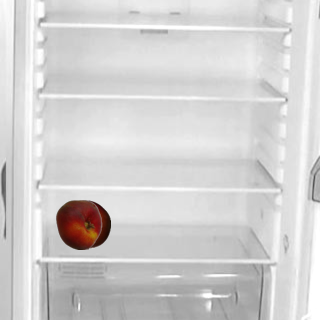Apple Braeburn: (60, 199, 110, 249)
Nectarine Flat: (53, 199, 103, 249)
